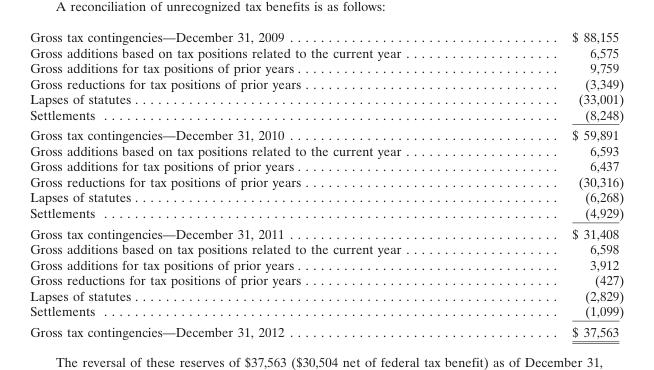table: (29, 28, 623, 339)
table column: (29, 28, 485, 339), (485, 28, 623, 339)
table row: (29, 320, 623, 339), (29, 106, 623, 124), (29, 124, 623, 142), (29, 204, 623, 222), (29, 222, 623, 240), (29, 302, 623, 320), (29, 28, 623, 44), (29, 59, 623, 75), (29, 90, 623, 106), (29, 142, 623, 158), (29, 173, 623, 189), (29, 240, 623, 256), (29, 271, 623, 287), (29, 44, 623, 59), (29, 75, 623, 90), (29, 158, 623, 173), (29, 189, 623, 204), (29, 256, 623, 271), (29, 287, 623, 302)
